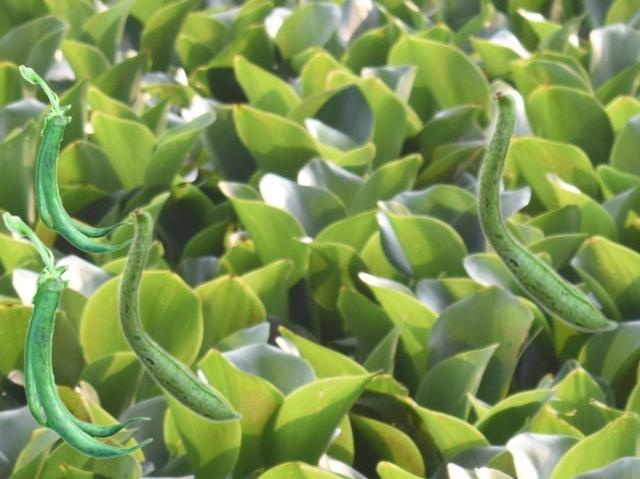french_bean: (1, 211, 152, 458), (475, 86, 618, 333), (116, 205, 242, 423), (18, 64, 134, 253)
